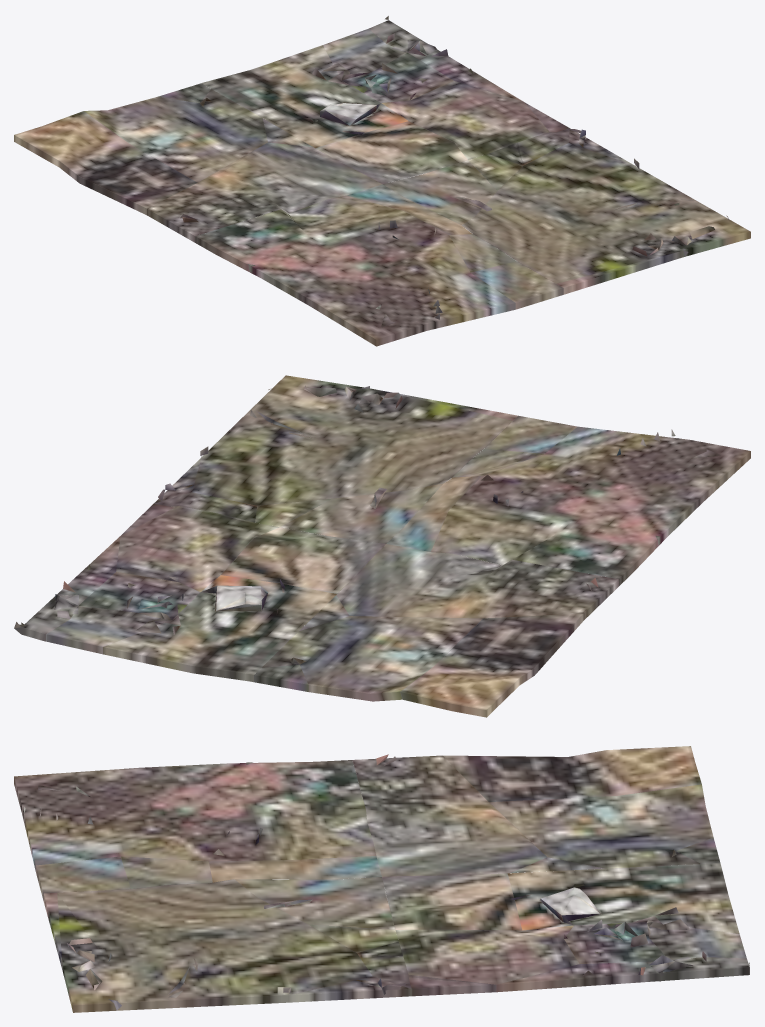
3 views of the same model, one above another, from view 1: azimuth 30°, elevation 25°; view 2: azimuth 150°, elevation 25°; view 3: azimuth 270°, elevation 25° (orthographic). The views are drawn at different scales.
Visible parts, largest first — view 1: Mesh_0; view 2: Mesh_0; view 3: Mesh_0.
Boxes of the visible parts, <box> form: Mesh_0: <box>14,16,750,346</box>; Mesh_0: <box>14,375,750,717</box>; Mesh_0: <box>14,746,749,1012</box>.
Size of the model in its own units: 2132 by 118 by 2640.
Materials: 1 (1 with a texture image).
